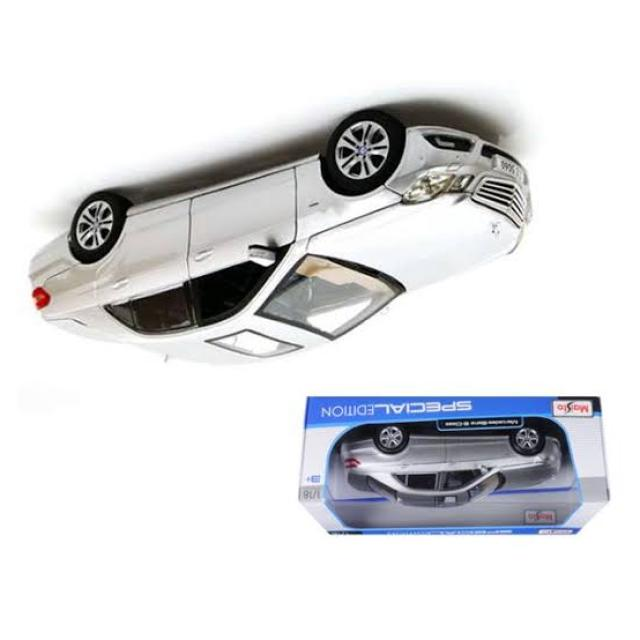Car: (28, 109, 534, 368), (341, 422, 564, 510)
